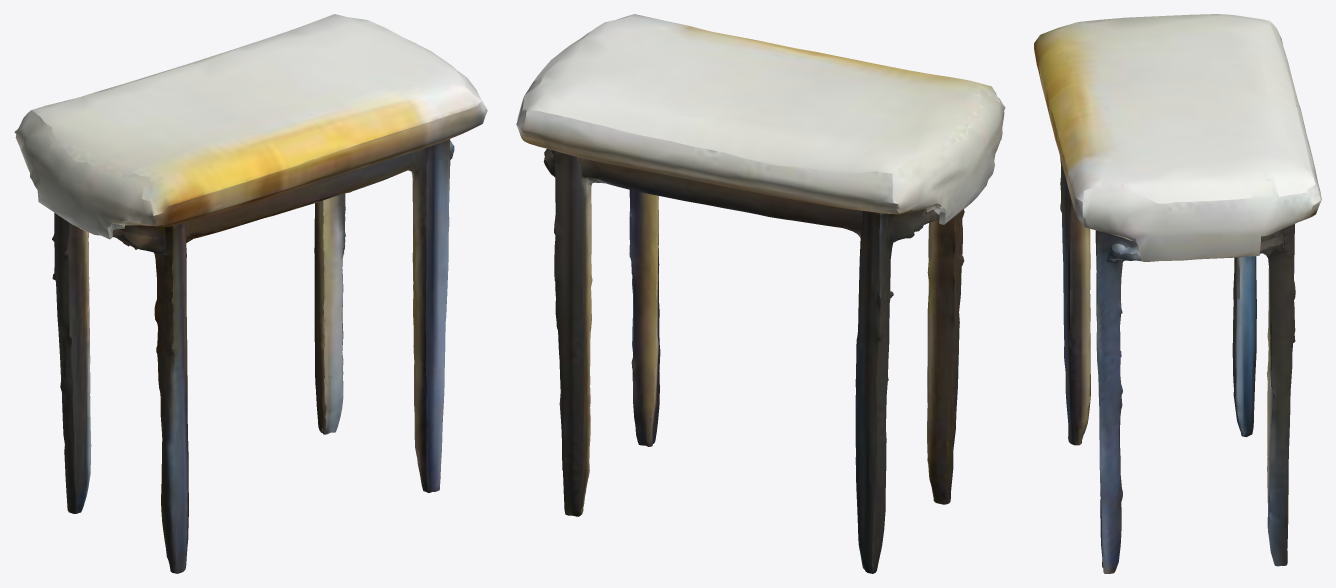
The picture shows the model from 3 angles, left to right: view 1: azimuth 30°, elevation 25°; view 2: azimuth 150°, elevation 25°; view 3: azimuth 270°, elevation 25°; orthographic projection. The views are drawn at different scales.
Parts seen in each view (by area): view 1: world; view 2: world; view 3: world.
Boxes of the visible parts, box(x1,y1,x2,y2) form: world: box(14, 14, 487, 573); world: box(516, 14, 1005, 573); world: box(1034, 14, 1321, 573).
Bounding box in the file's own units: 0.588 × 0.581 × 0.3702.
Materials: 1 (1 with a texture image).
